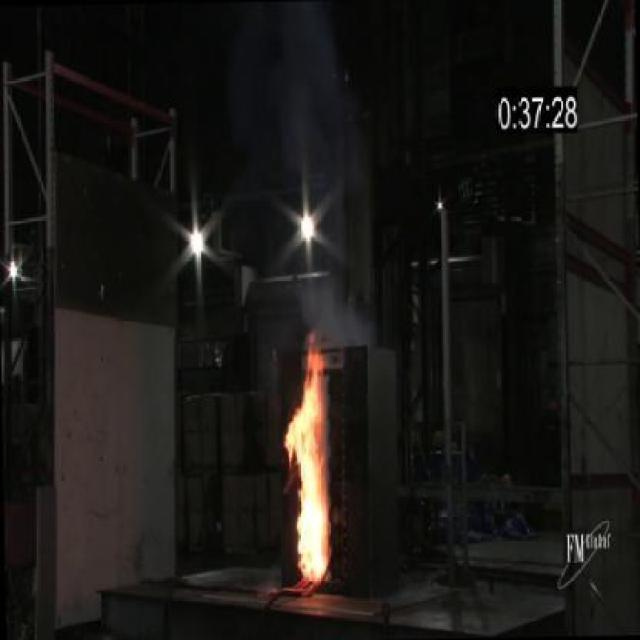fire: (286, 272, 383, 346)
smoke: (282, 349, 336, 586)
